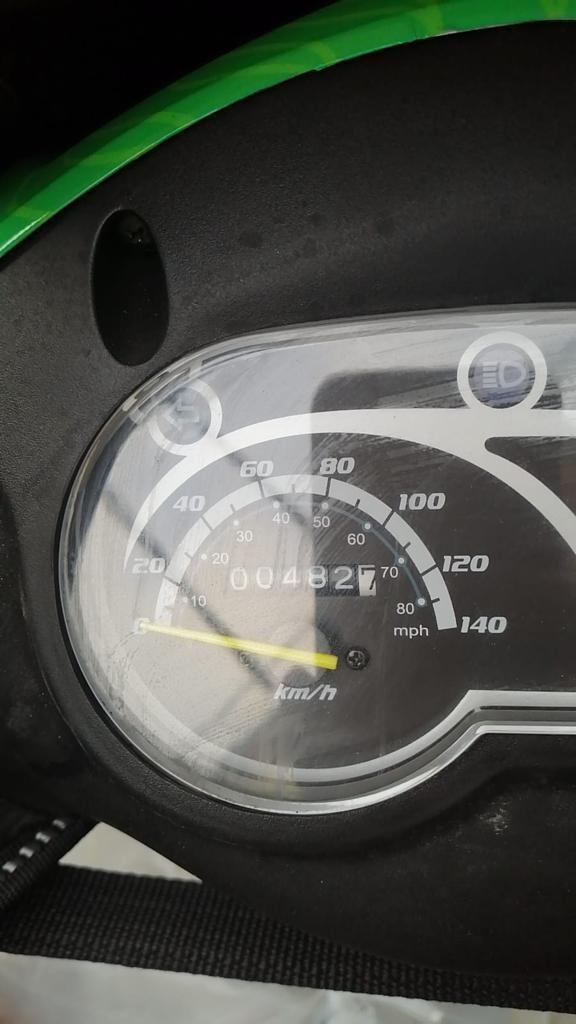0: (228, 565, 249, 591), (254, 564, 274, 590)
2: (331, 564, 355, 590)
4: (279, 564, 302, 589)
7: (359, 565, 379, 590)
8: (306, 564, 327, 589)
odometer: (214, 559, 381, 602)
